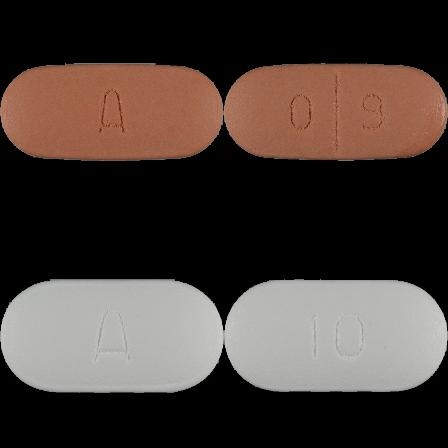68084-120: (0, 0, 224, 224)
